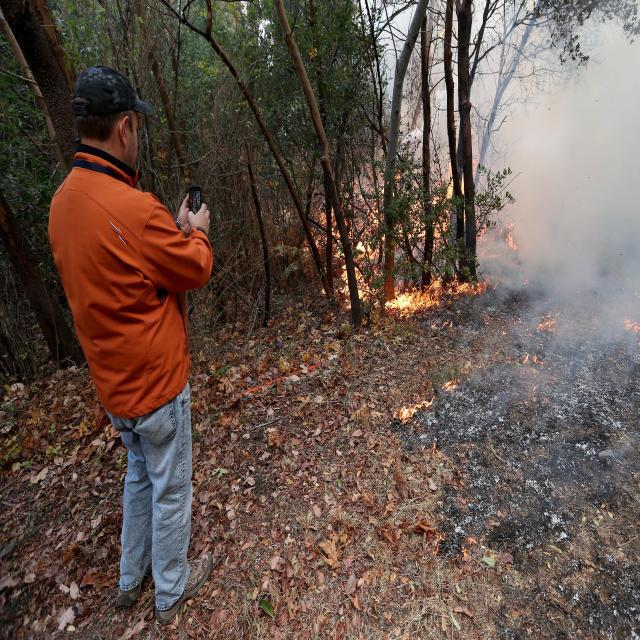Fire: (373, 267, 486, 323), (330, 234, 376, 318)
Smoke: (467, 0, 640, 393)
